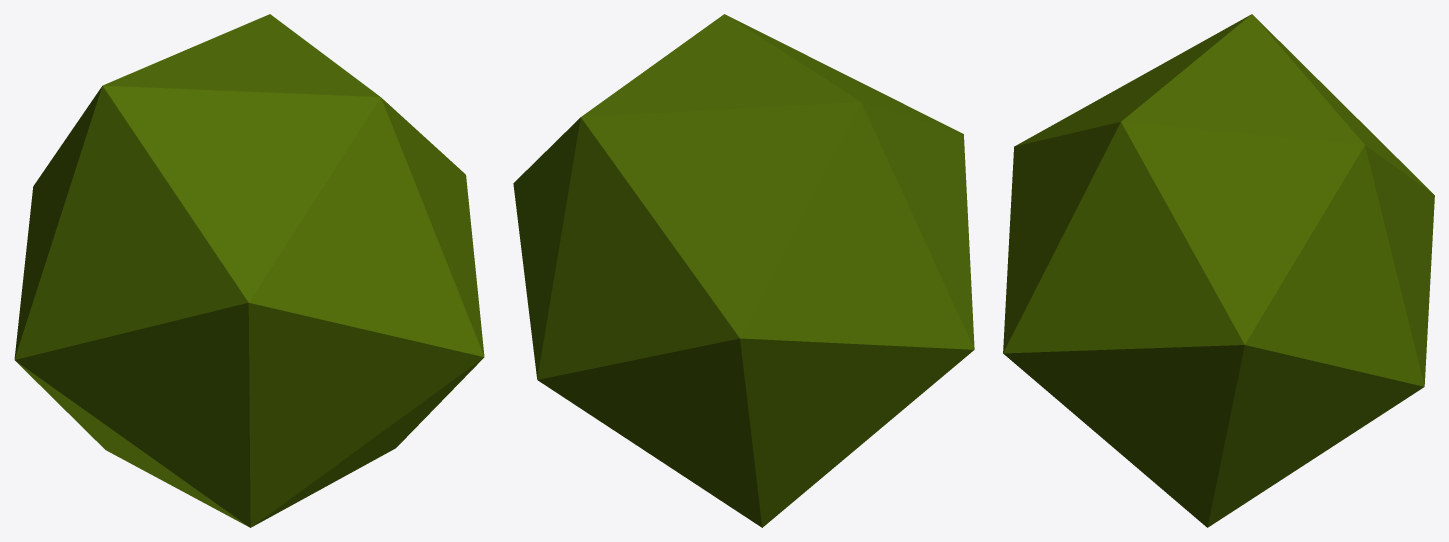
File: glass02.fbx
3 views of the same model, side by side, from view 1: azimuth 30°, elevation 25°; view 2: azimuth 150°, elevation 25°; view 3: azimuth 270°, elevation 25° (orthographic). The views are drawn at different scales.
Visible parts, largest first — view 1: glass02; view 2: glass02; view 3: glass02.
Boxes of the visible parts, x1,y1,x2,y2 form: glass02: (14, 14, 484, 527); glass02: (513, 14, 974, 527); glass02: (1003, 14, 1434, 527).
Size of the model in its own units: 113 by 132 by 113.
